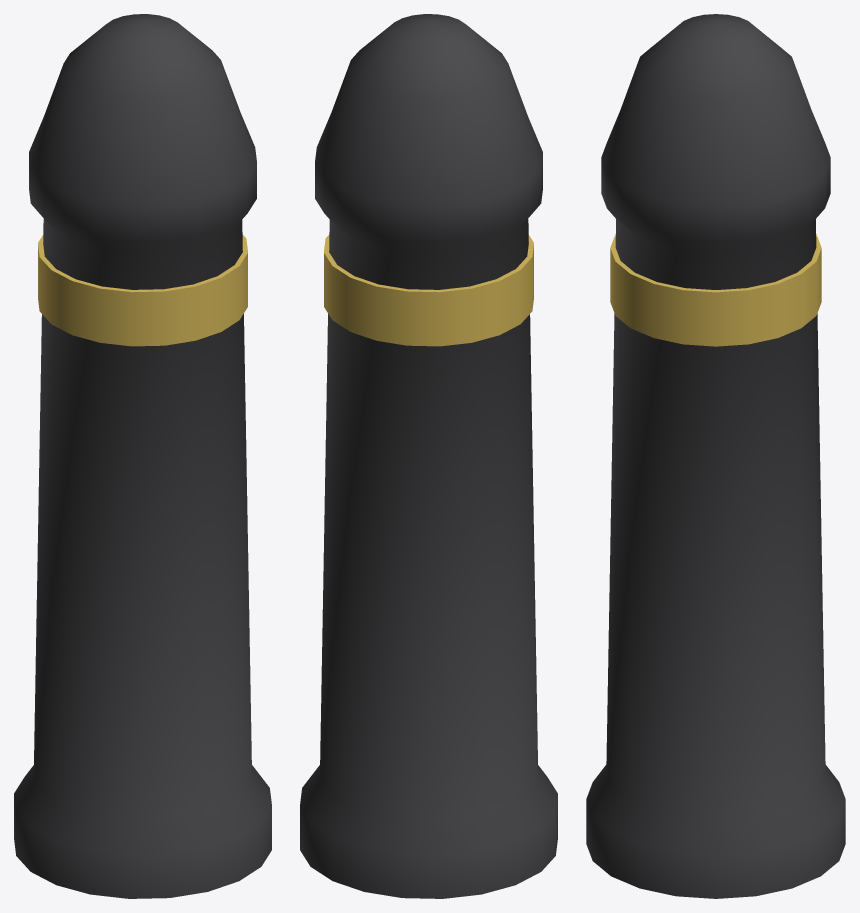
Rendered from bollard.glb.
3 renders of one model, left to right at view 1: azimuth 30°, elevation 25°; view 2: azimuth 150°, elevation 25°; view 3: azimuth 270°, elevation 25°, orthographic.
Visible parts, largest first — view 1: bollard; view 2: bollard; view 3: bollard.
Part boxes in pixels (bbox=[...]): bollard: bbox=[14, 14, 271, 898]; bollard: bbox=[300, 14, 557, 898]; bollard: bbox=[586, 14, 845, 898].
Bounding box in the file's own units: 0.26 × 0.91 × 0.26.
